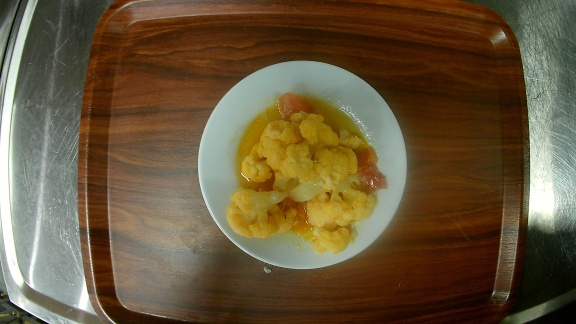karnibahar: (195, 59, 407, 271)
